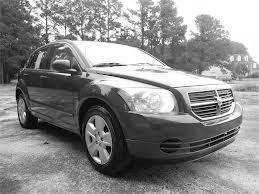car: (16, 43, 244, 176)
